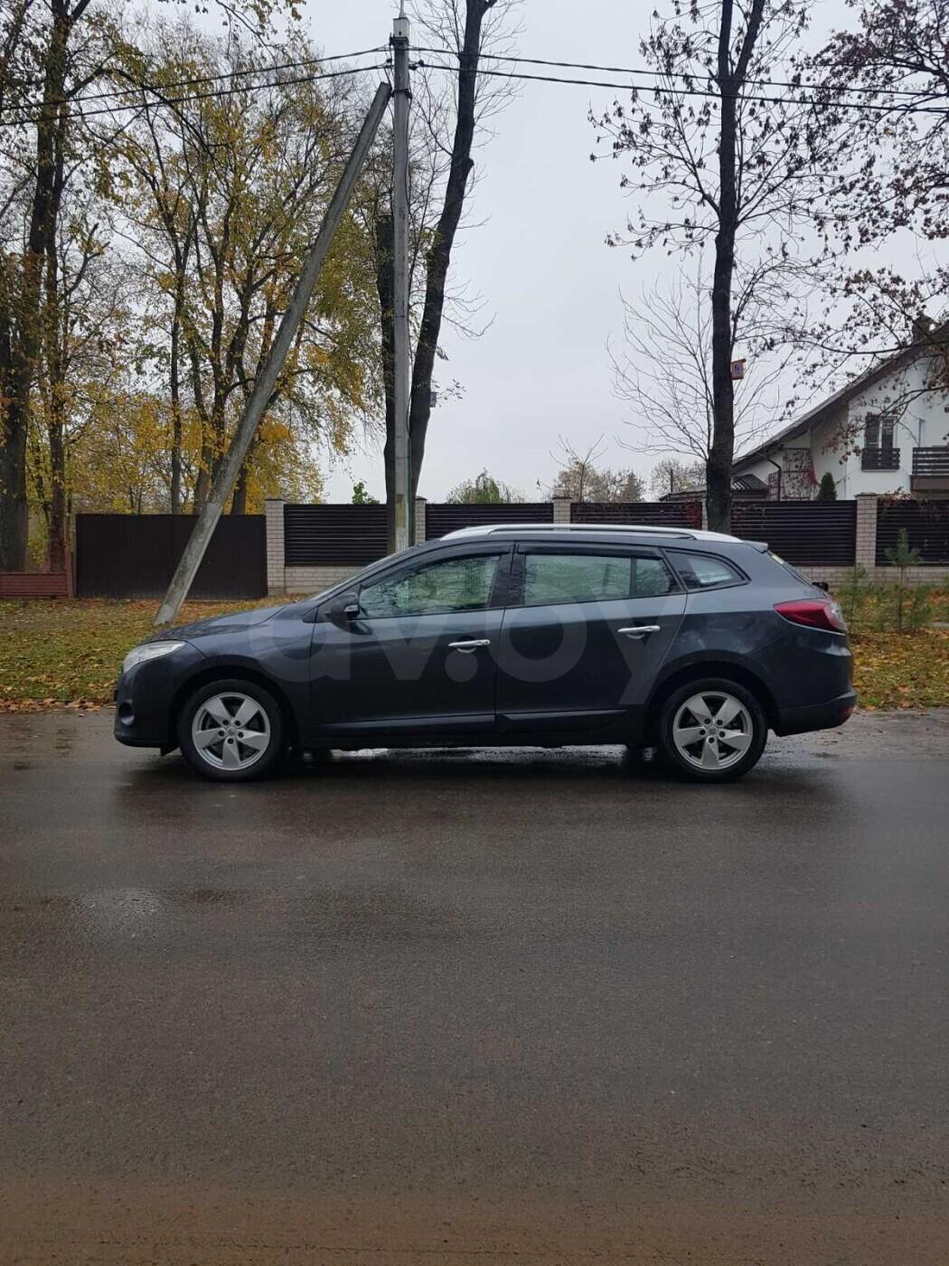Megane_2008-2014: (107, 514, 860, 812)
